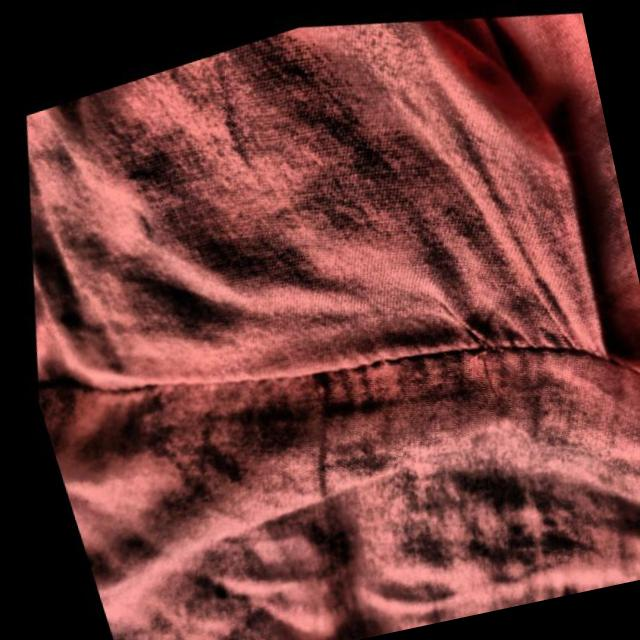seam: (33, 255, 640, 514)
